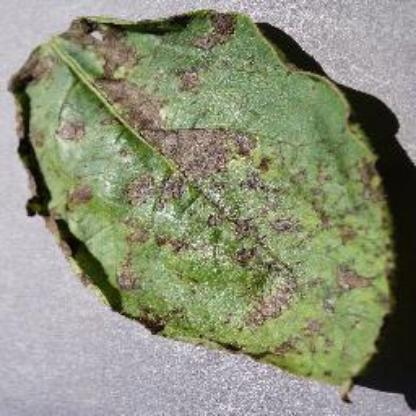Early-Blight: (12, 5, 416, 408)
